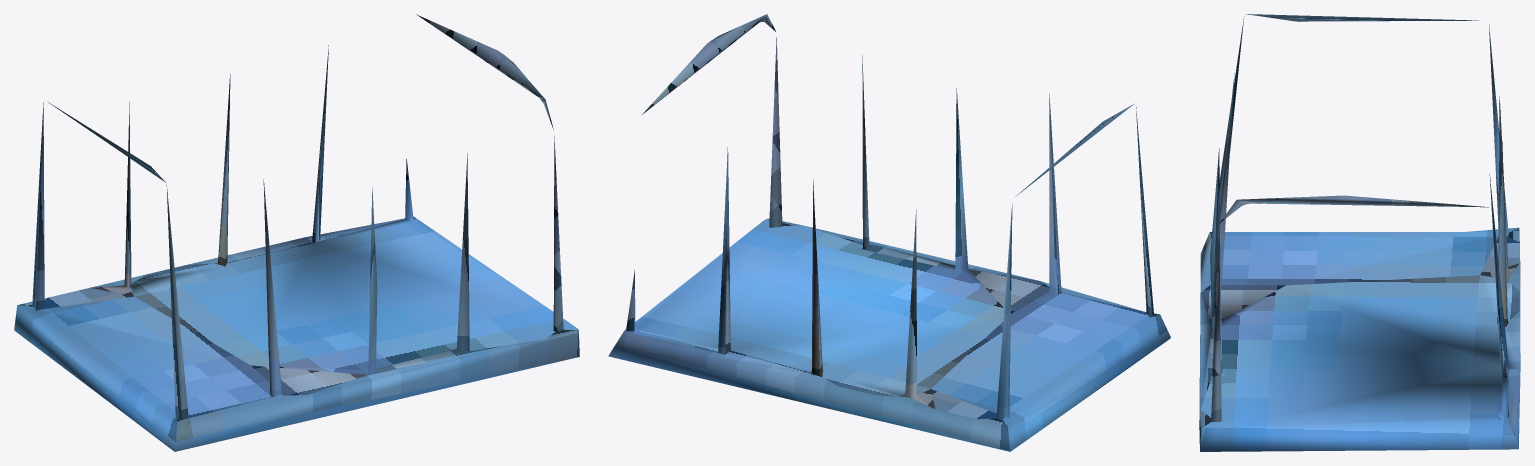
Rendered from Poppin_File_Sorter_Blue-low.glb.
3 views of the same model, side by side, from view 1: azimuth 30°, elevation 25°; view 2: azimuth 150°, elevation 25°; view 3: azimuth 270°, elevation 25° (orthographic).
Visible parts, largest first — view 1: Poppin_File_Sorter_Blue; view 2: Poppin_File_Sorter_Blue; view 3: Poppin_File_Sorter_Blue.
Boxes of the visible parts, x1,y1,x2,y2 form: Poppin_File_Sorter_Blue: [14, 14, 579, 451]; Poppin_File_Sorter_Blue: [608, 14, 1170, 451]; Poppin_File_Sorter_Blue: [1199, 14, 1520, 451].
Size of the model in its own units: 0.2488 by 0.1494 by 0.1724.
1 material, 1 textured.
